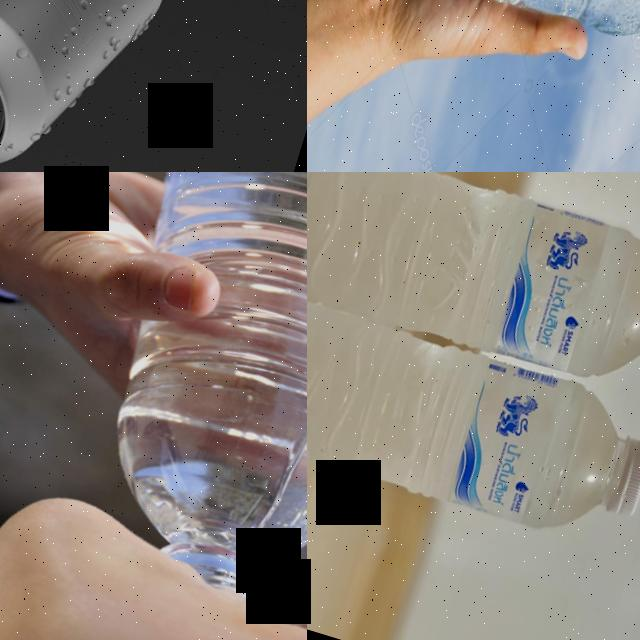bottle: (37, 172, 307, 628), (307, 274, 640, 561), (307, 172, 640, 413), (342, 0, 640, 70)
can: (0, 0, 176, 172)
